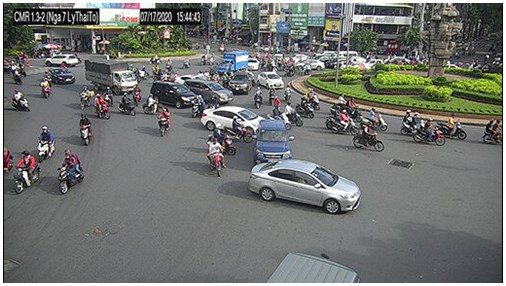xe_hoi: (252, 160, 361, 212), (202, 106, 270, 137), (255, 119, 292, 169), (153, 80, 200, 109), (184, 80, 233, 104), (230, 72, 253, 95), (47, 67, 76, 84), (257, 70, 281, 88), (45, 54, 78, 67), (298, 59, 323, 70), (248, 57, 260, 70)
xe_may: (13, 151, 41, 193), (58, 150, 84, 195), (412, 118, 448, 147), (352, 122, 384, 154), (223, 115, 254, 144), (435, 114, 467, 142), (212, 123, 237, 158), (207, 134, 225, 178), (330, 109, 361, 134), (401, 108, 428, 136), (38, 125, 56, 164), (361, 108, 389, 132), (269, 104, 291, 130), (340, 97, 364, 120), (284, 101, 303, 129), (483, 118, 502, 144), (142, 94, 165, 115), (12, 88, 32, 112), (79, 113, 93, 146), (295, 97, 316, 119), (330, 92, 350, 113), (119, 92, 136, 116), (95, 93, 110, 119), (157, 108, 170, 137), (307, 87, 321, 112), (79, 86, 93, 109), (191, 93, 203, 119), (150, 63, 165, 80), (11, 65, 22, 86), (40, 77, 51, 98), (104, 86, 113, 108), (133, 84, 141, 107), (268, 87, 277, 107), (255, 88, 262, 110), (273, 94, 281, 113), (284, 83, 291, 101)
xe_tai: (85, 60, 138, 92), (215, 52, 248, 75)
